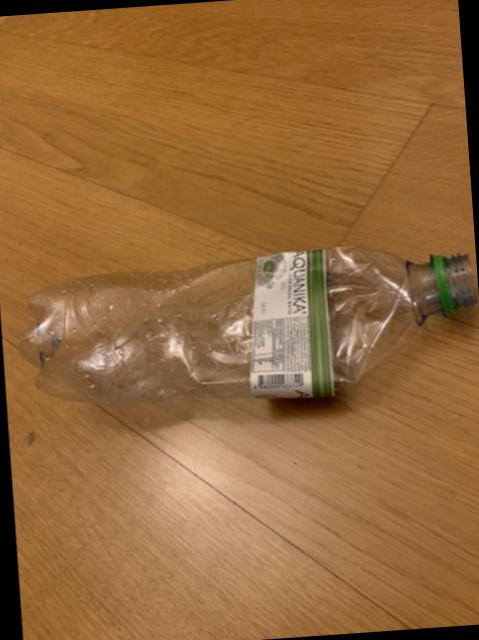plastic: (19, 245, 474, 401)
